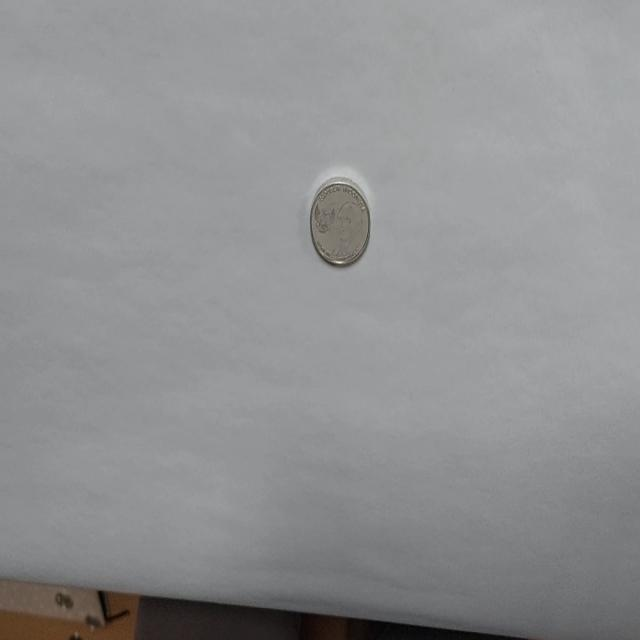lima ratus rupiah: (308, 176, 372, 268)
